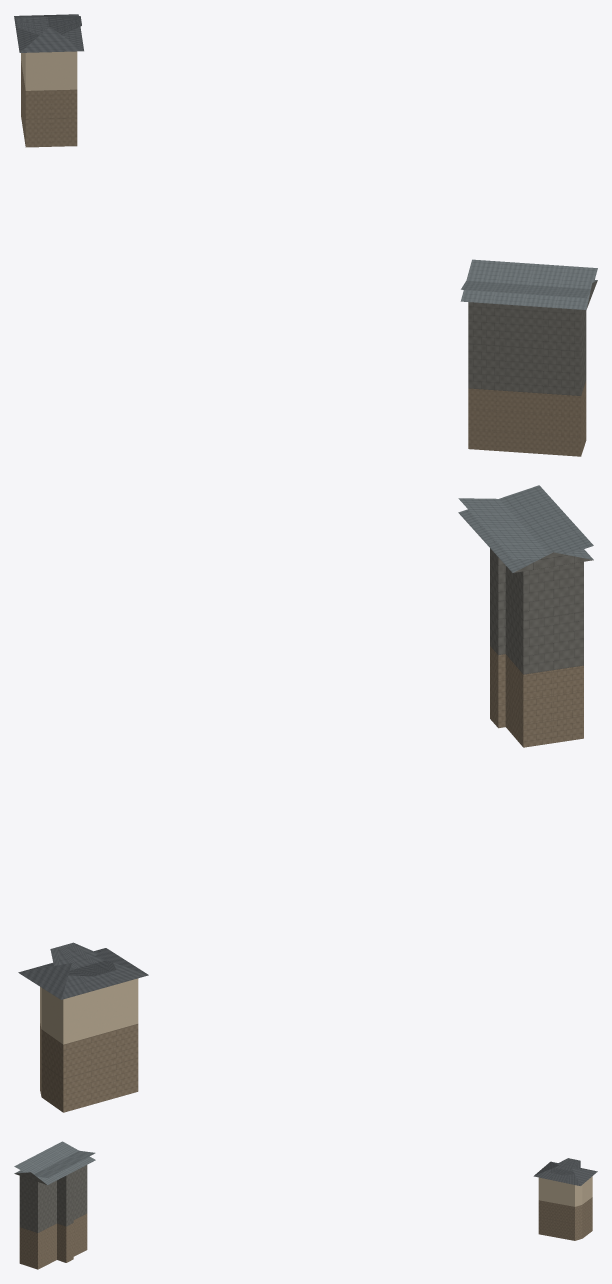
The model's file is bld_c12_29_387.gltf.
3 renders of one model, top to bottom at view 1: azimuth 30°, elevation 25°; view 2: azimuth 150°, elevation 25°; view 3: azimuth 270°, elevation 25°, orthographic. The views are drawn at different scales.
Visible parts, largest first — view 1: bld_c12_29_387; view 2: bld_c12_29_387; view 3: bld_c12_29_387.
Part boxes in pixels (x1,y1,x2,y2): bld_c12_29_387: (14, 14, 597, 456); bld_c12_29_387: (18, 485, 593, 1112); bld_c12_29_387: (14, 1141, 597, 1269).
Size of the model in its own units: 14.18 by 13.6 by 73.92.
Materials: 6 (6 with a texture image).
